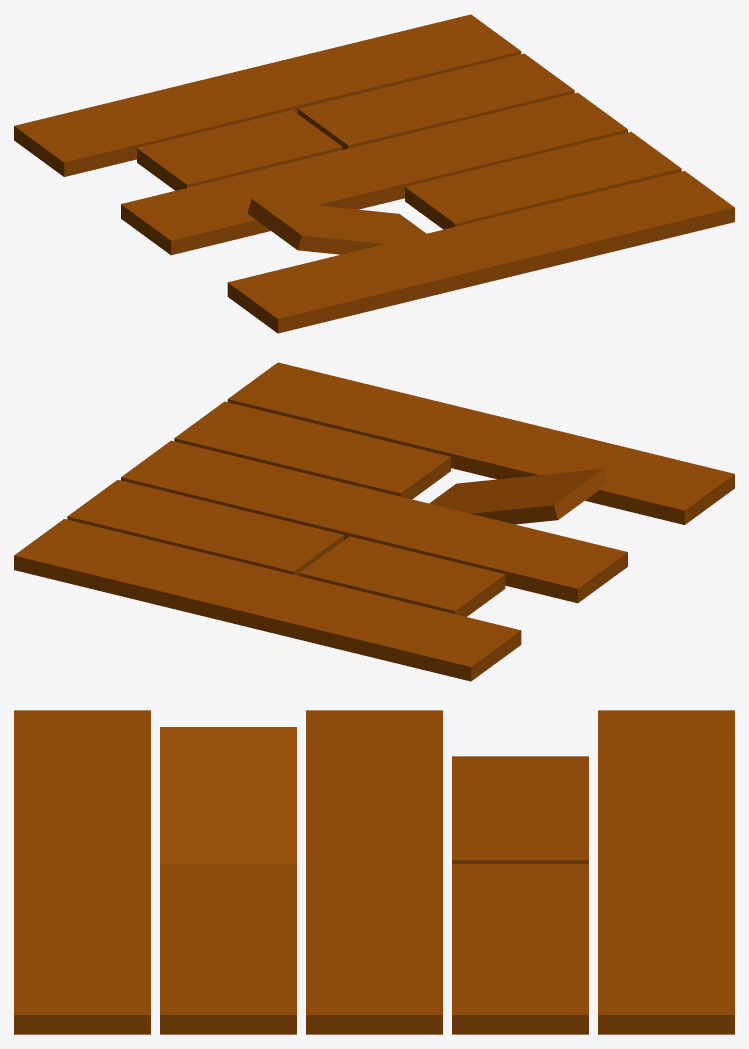
The model's file is RPG_Tiles_Square_Wooden_Boards_04.FBX.
3 views of the same model, one above another, from view 1: azimuth 30°, elevation 25°; view 2: azimuth 150°, elevation 25°; view 3: azimuth 270°, elevation 25° (orthographic). The views are drawn at different scales.
Parts seen in each view (by area): view 1: RPG_Tiles_Square_Wooden_Boards_04; view 2: RPG_Tiles_Square_Wooden_Boards_04; view 3: RPG_Tiles_Square_Wooden_Boards_04.
Boxes of the visible parts, left/top/right/bottom form: RPG_Tiles_Square_Wooden_Boards_04: left=14, top=14, right=734, bottom=333; RPG_Tiles_Square_Wooden_Boards_04: left=14, top=362, right=734, bottom=681; RPG_Tiles_Square_Wooden_Boards_04: left=14, top=710, right=734, bottom=1034.
Bounding box in the file's own units: 2964 × 402 × 2964.
